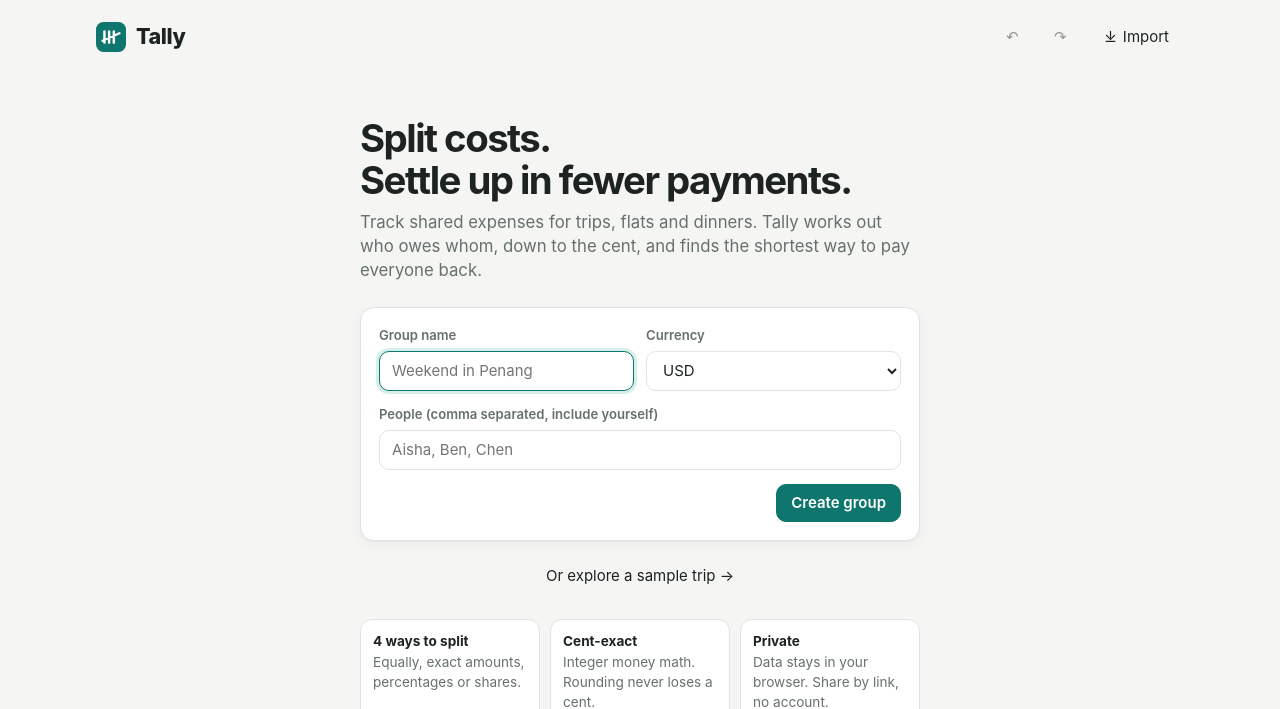
Scenario: Tally app › shows validation errors when creating a group
Click the button "Create group" at (839, 503), box [776,484,901,522]
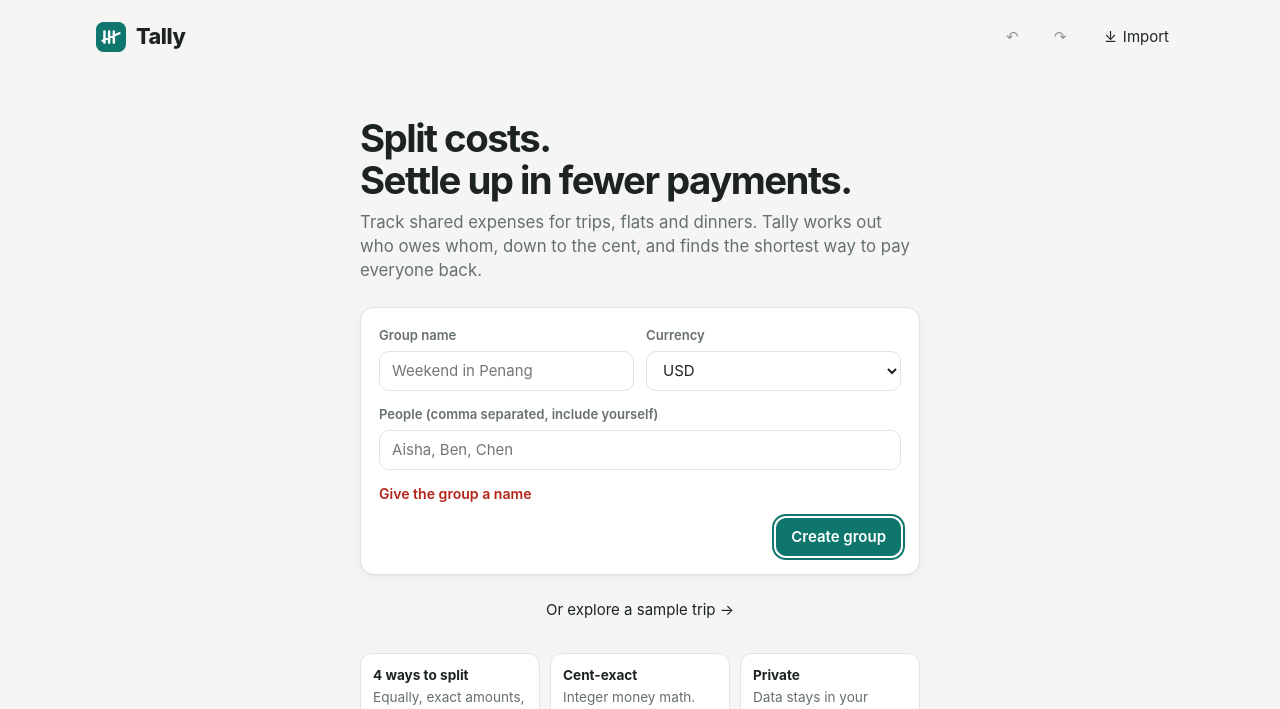
Now the message reads "Give the group a name", box [379,485,532,502]
